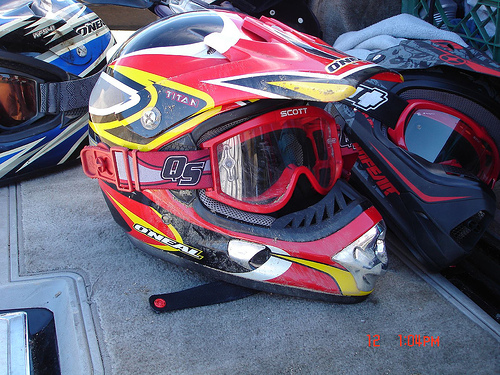helmet: (80, 7, 399, 298), (338, 32, 494, 258)
